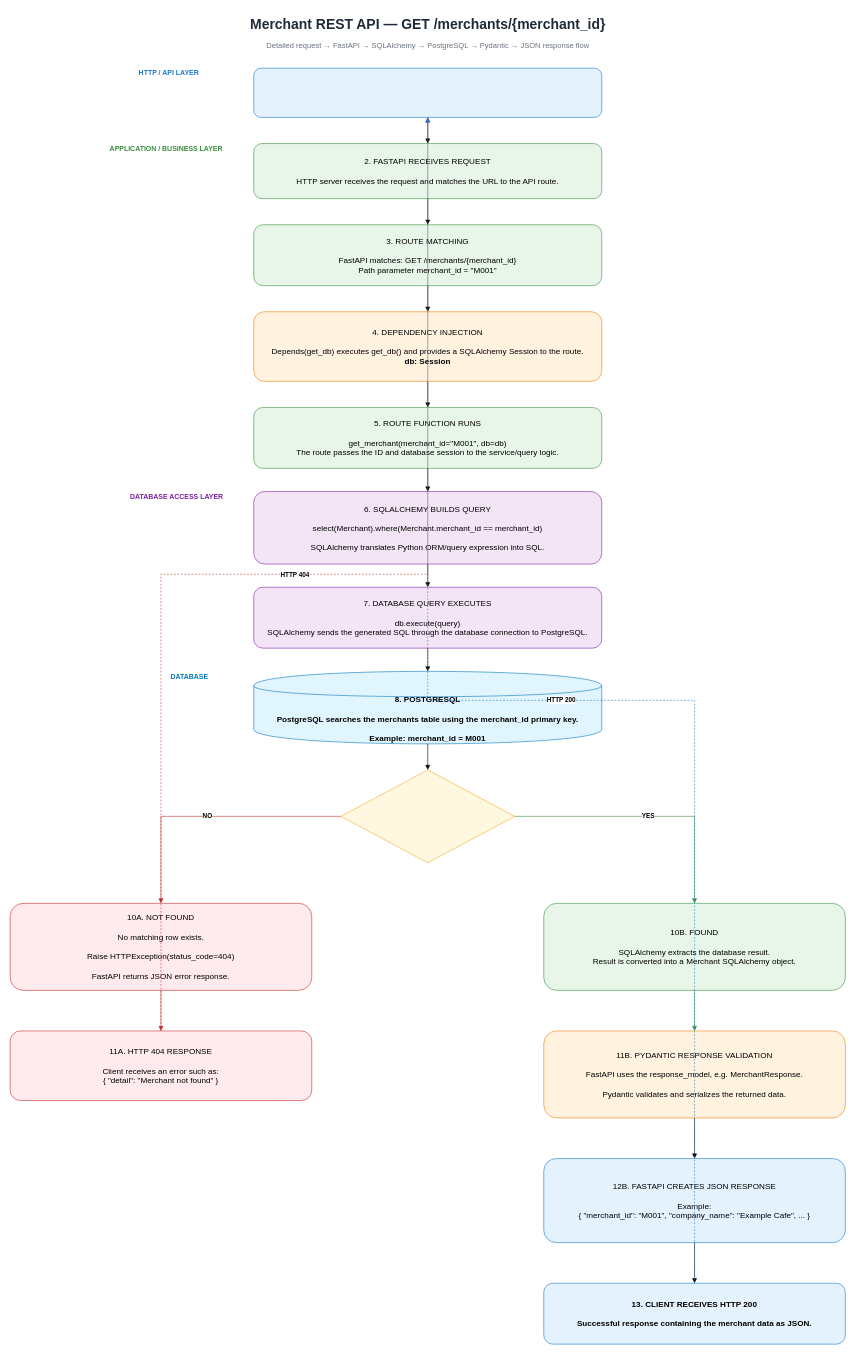
Image size: 856x1354. Some labels were removed from this diagram. The shapes that lost their labels are listed below. From the top down, each one's box as (x1, y1, x2, y2) in pixels, then its label:
(253, 68, 602, 117): 1. CLIENT Sends HTTP GET request GET /merchants/M001
(340, 769, 515, 863): 9. WAS A MERCHANT FOUND?
